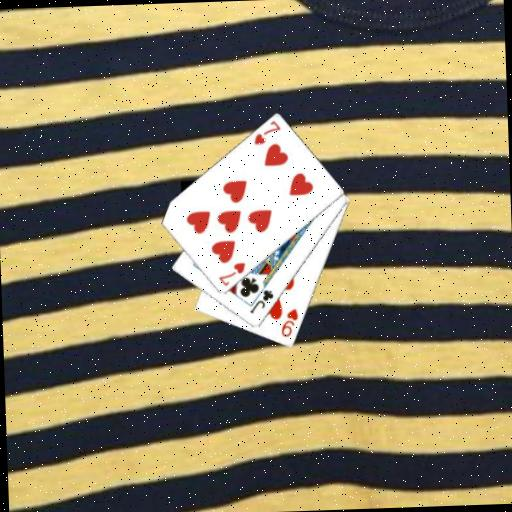7H: (214, 259, 247, 289), (250, 117, 282, 146)
9H: (277, 306, 300, 339)
JC: (246, 287, 275, 315)
